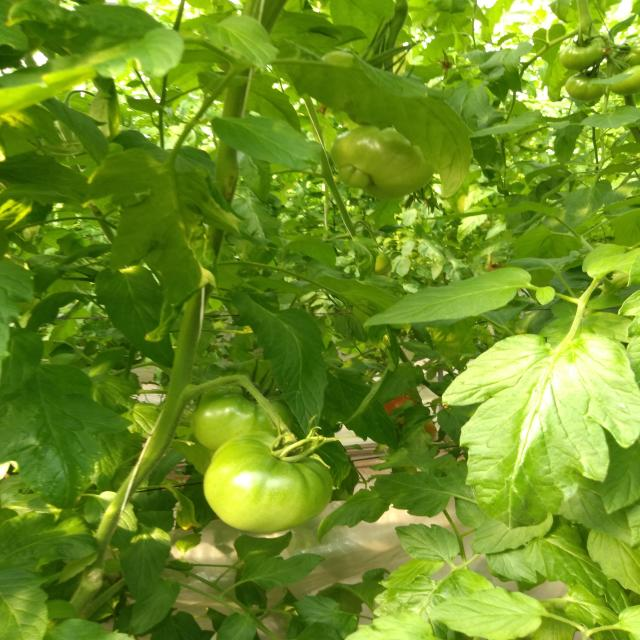yesil: (150, 331, 379, 577)
